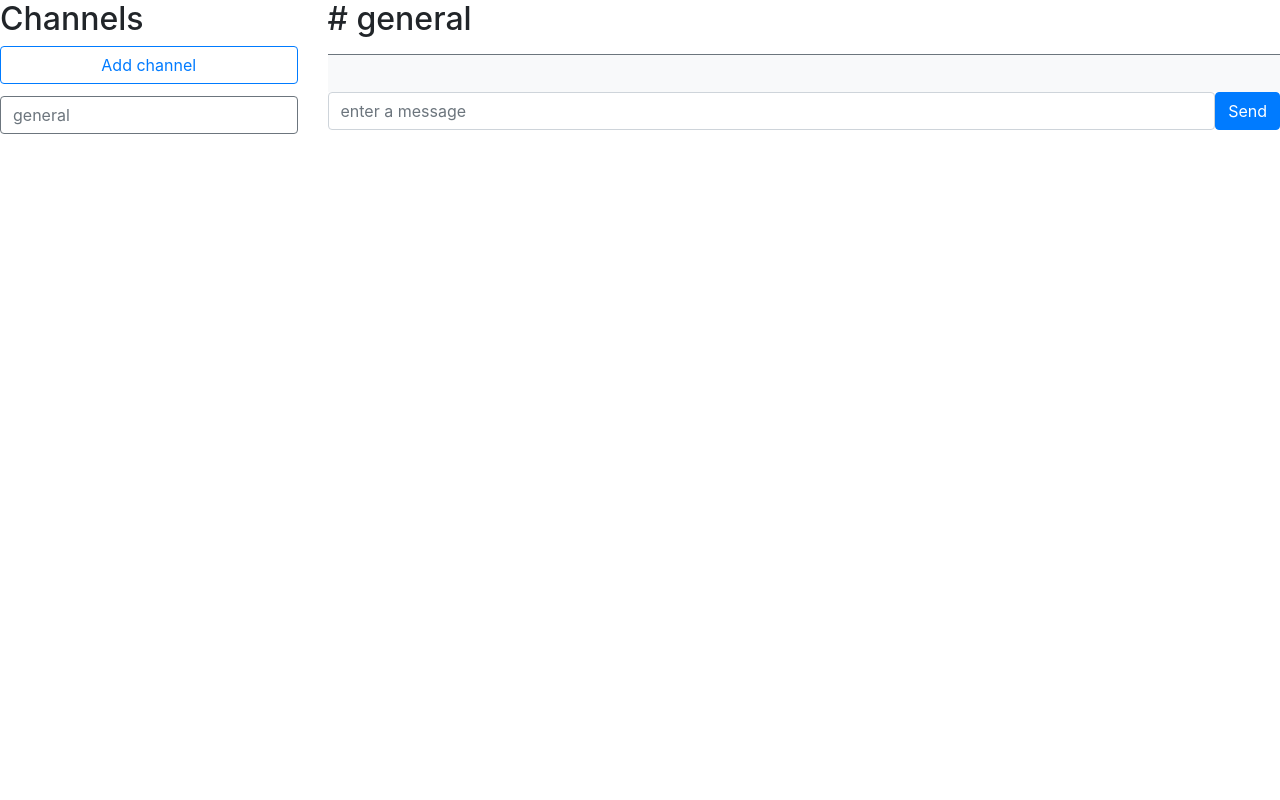
Scenario: test channels › add channels › app should show errors that occurred when channel is added
Click the button "Add channel" at coordinates (149, 65), box [0,46,298,84]
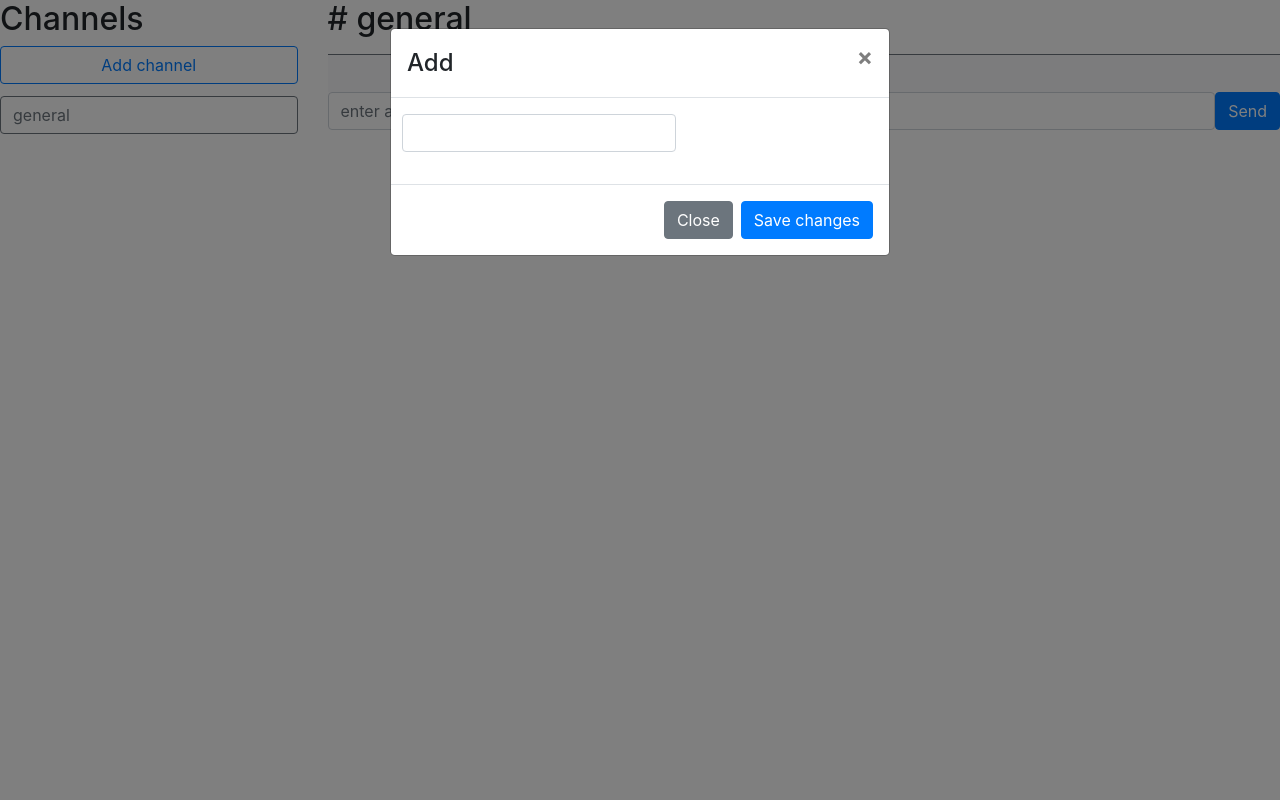
Type "a" into the field at coordinates (539, 133), box [402,114,676,152]
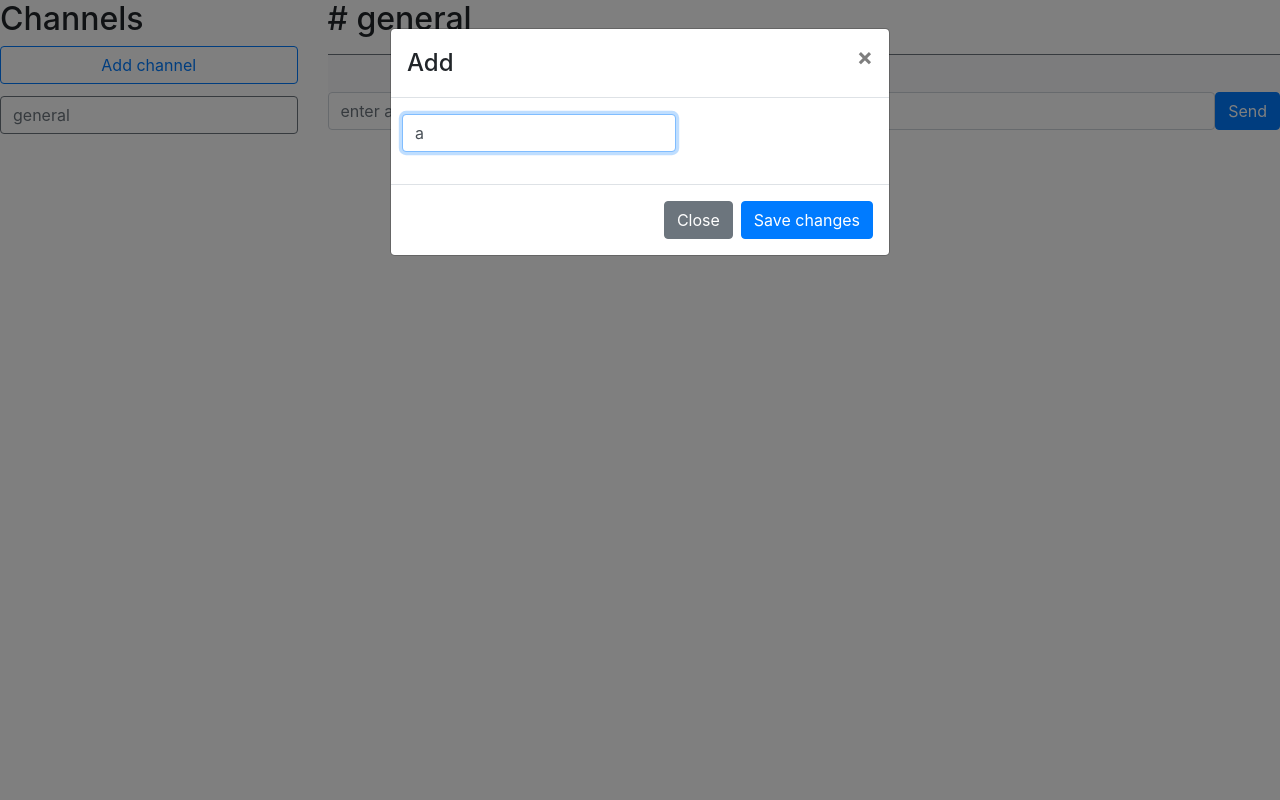
Click the button "Save changes" at coordinates (807, 220), box [741,201,873,239]
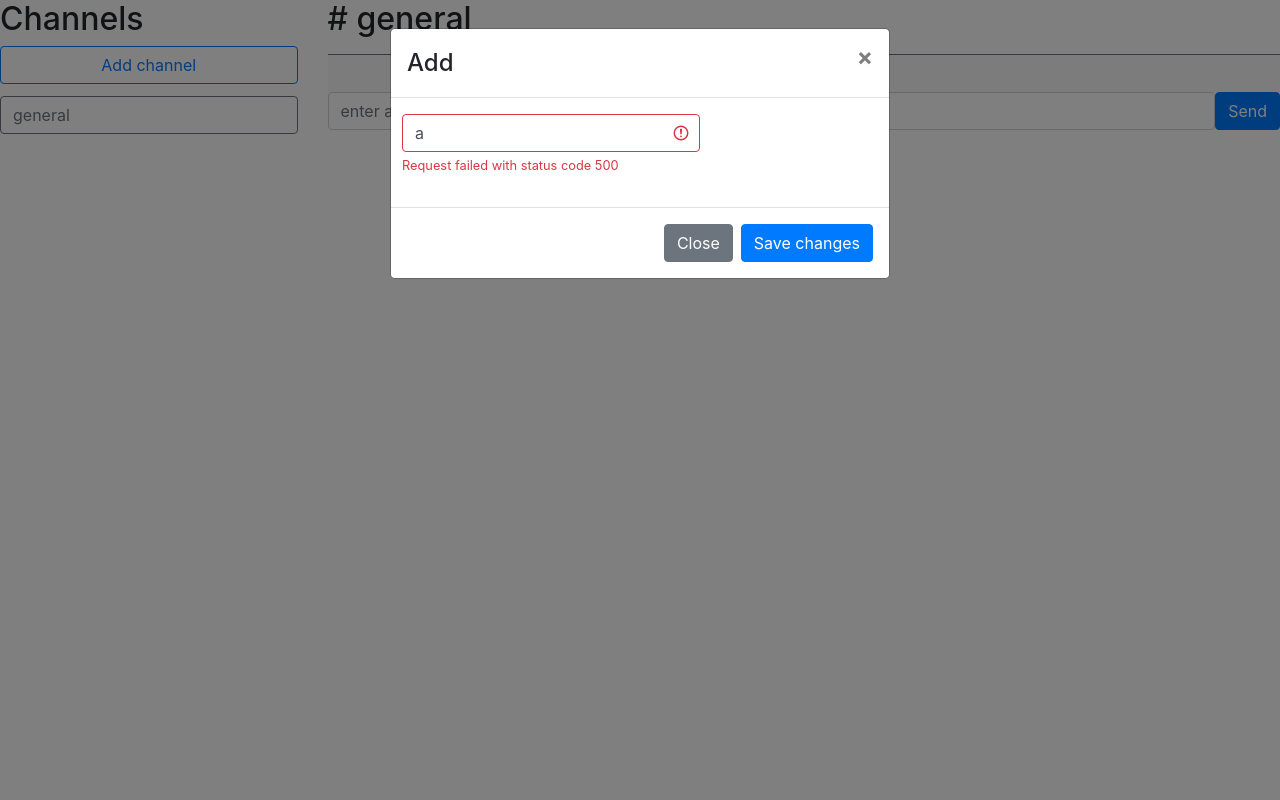
Expected: the text "Request failed with status code 500" is shown, [402,158,619,173]
